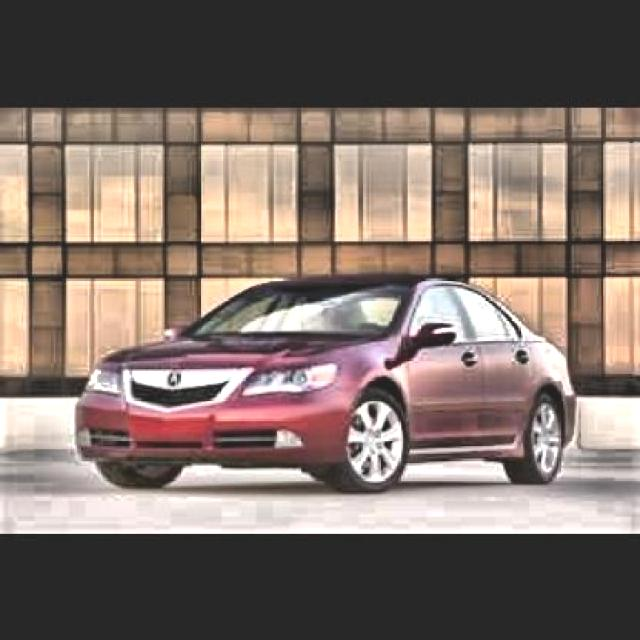maroon: (79, 273, 575, 492)
